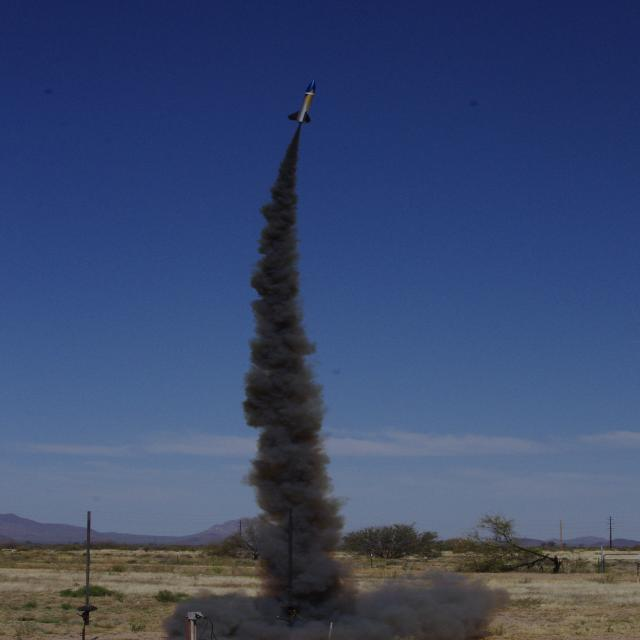Rocket: (288, 80, 316, 124)
